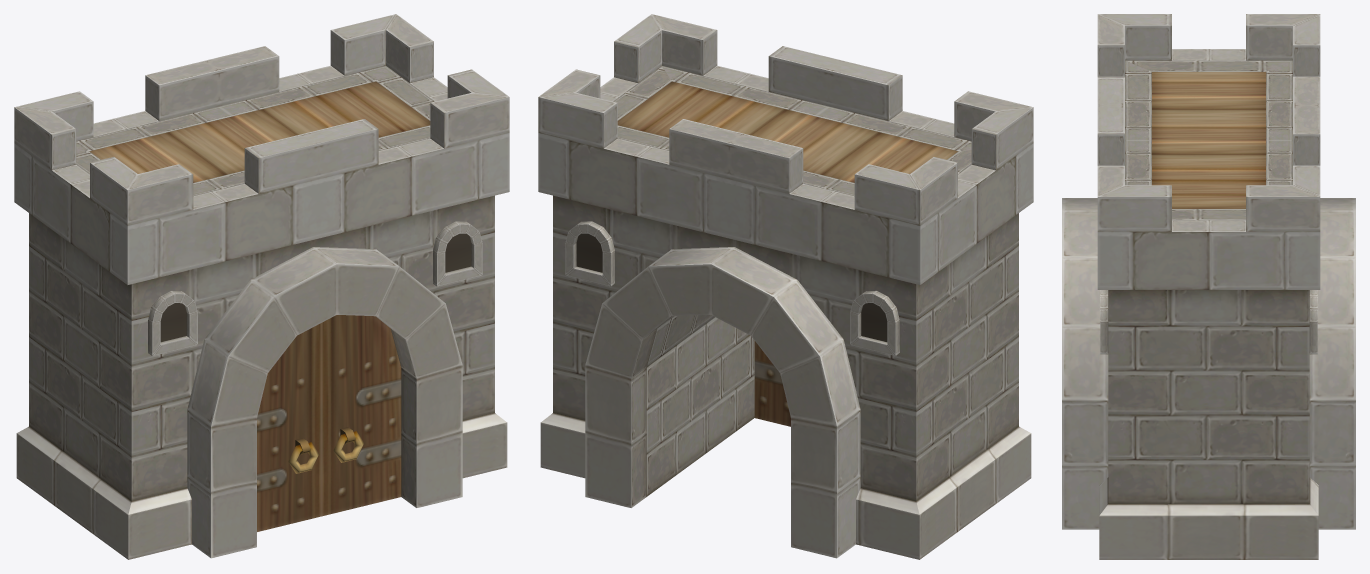
Rendered from CastleGate.FBX.
The picture shows the model from 3 angles, left to right: view 1: azimuth 30°, elevation 25°; view 2: azimuth 150°, elevation 25°; view 3: azimuth 270°, elevation 25°; orthographic projection.
Visible parts, largest first — view 1: CastleGate, Door (×2); view 2: CastleGate, Door; view 3: CastleGate.
Part boxes in pixels (<box>): CastleGate: <box>14,14,509,559</box>; Door (×2): <box>257,315,401,531</box>; CastleGate: <box>538,14,1033,559</box>; Door: <box>754,341,790,426</box>; CastleGate: <box>1062,14,1355,559</box>.
Size of the model in its own units: 690 by 639 by 468.
